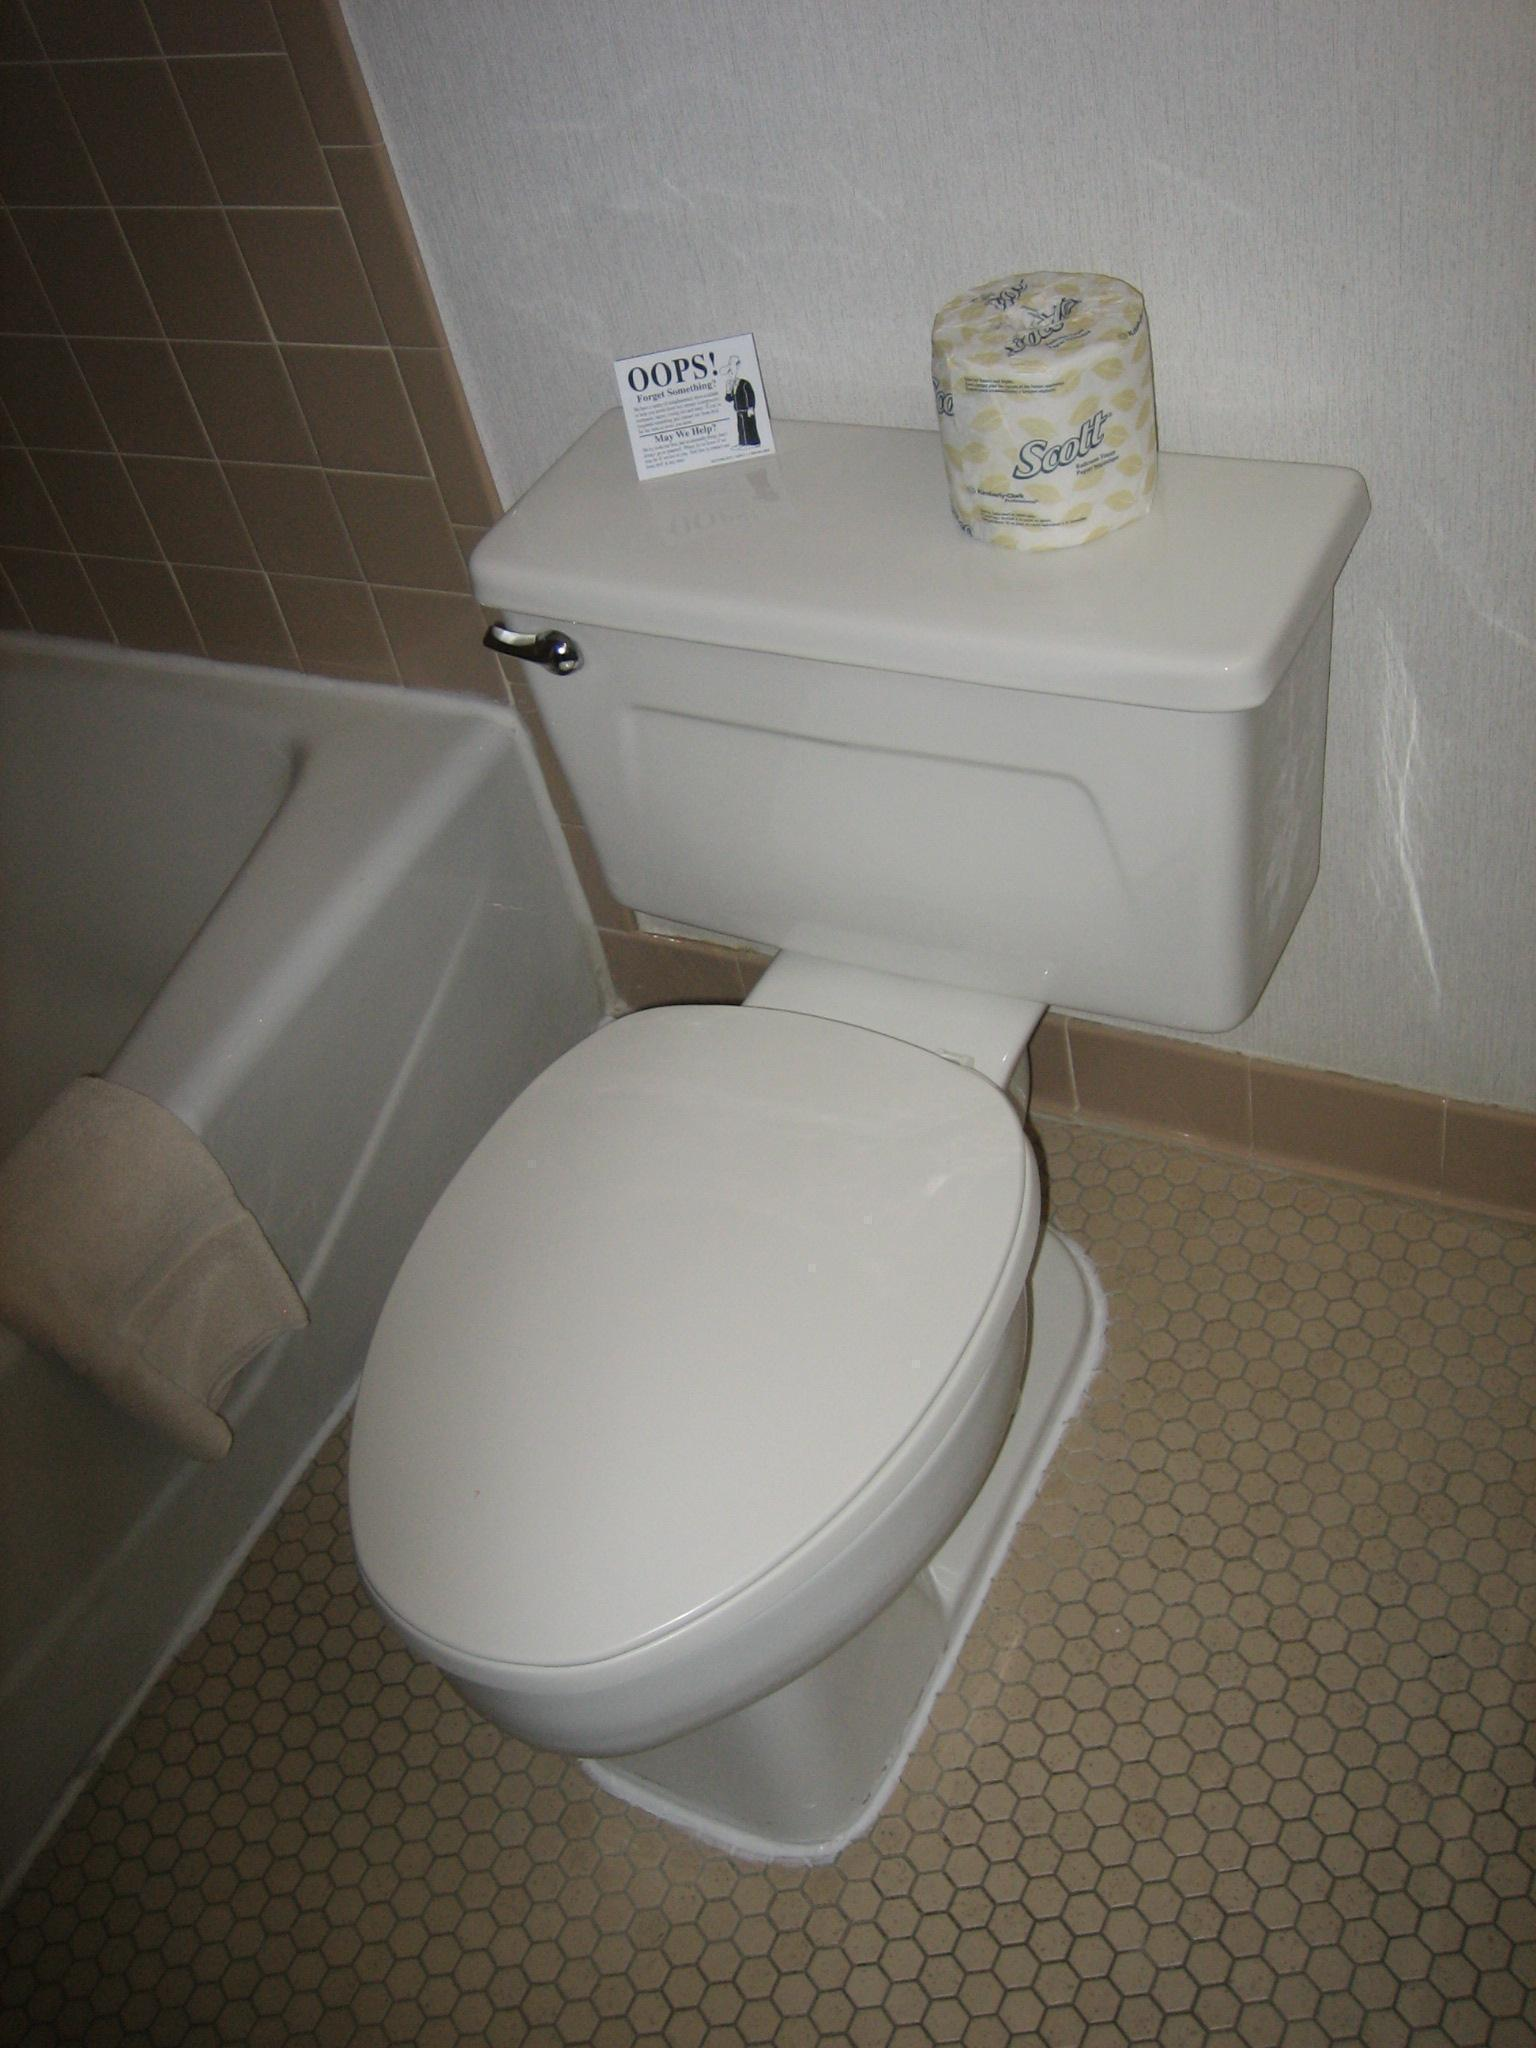Sanitario: (332, 443, 1423, 1879)
